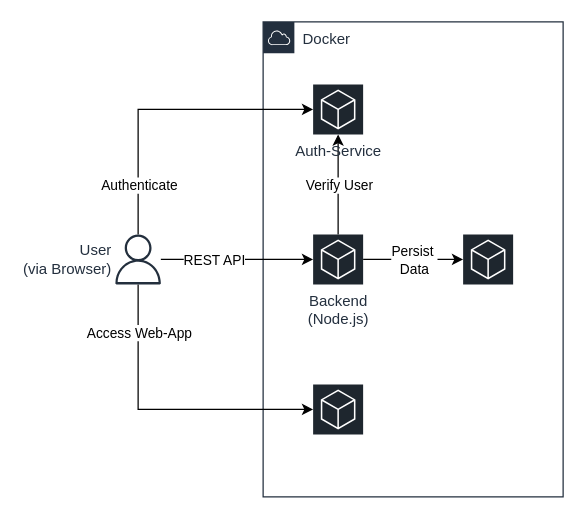
This 585x519 diagram has some shape labels left out. The shapes that lost their labels are listed below. From the top down, each one's centre as x and y in pixels, then its label:
At (487,258): "Database (PostgreSQL)".
At (337,408): "Web-App (nginx)".
